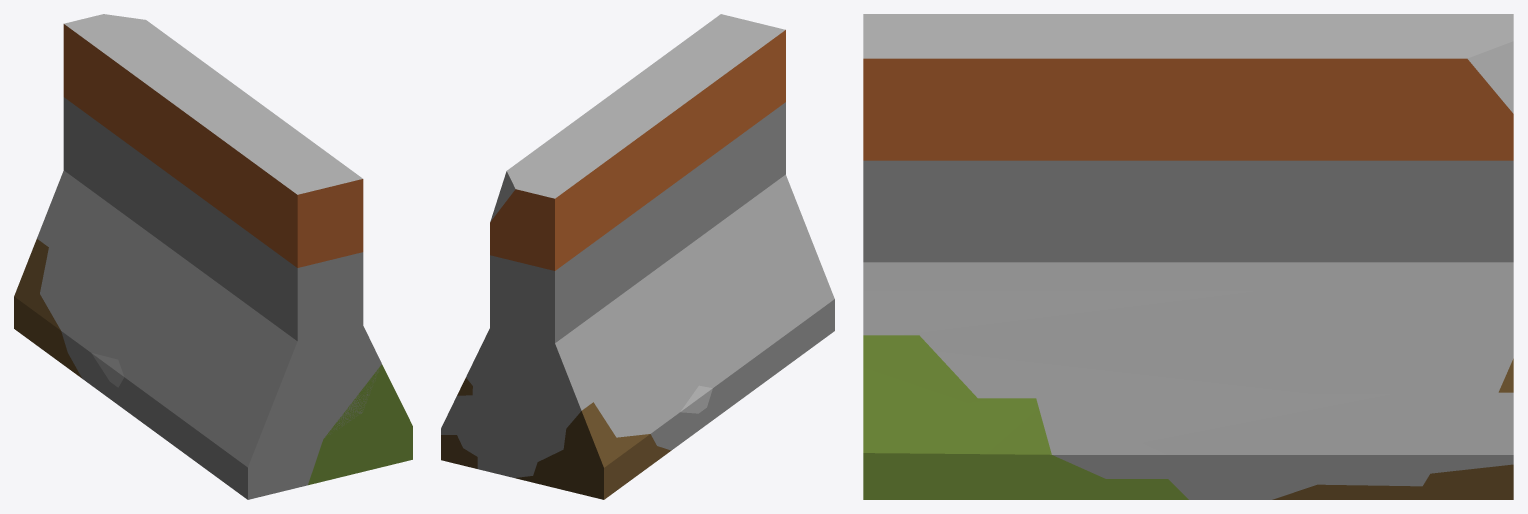
The model's file is SA_Prop_Barrier_02.glb.
3 renders of one model, left to right at view 1: azimuth 30°, elevation 25°; view 2: azimuth 150°, elevation 25°; view 3: azimuth 270°, elevation 25°, orthographic. The views are drawn at different scales.
Visible parts, largest first — view 1: SA_Prop_Barrier_02; view 2: SA_Prop_Barrier_02; view 3: SA_Prop_Barrier_02.
Part boxes in pixels (x1,y1,x2,y2): SA_Prop_Barrier_02: [14, 14, 412, 499]; SA_Prop_Barrier_02: [441, 14, 834, 499]; SA_Prop_Barrier_02: [863, 14, 1513, 499].
Size of the model in its own units: 0.42 by 0.7127 by 1.03.
1 material, 1 textured.
